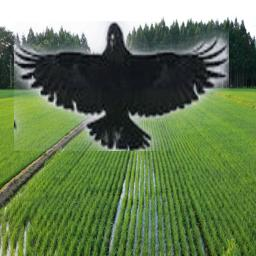Crow: (14, 21, 229, 151)
